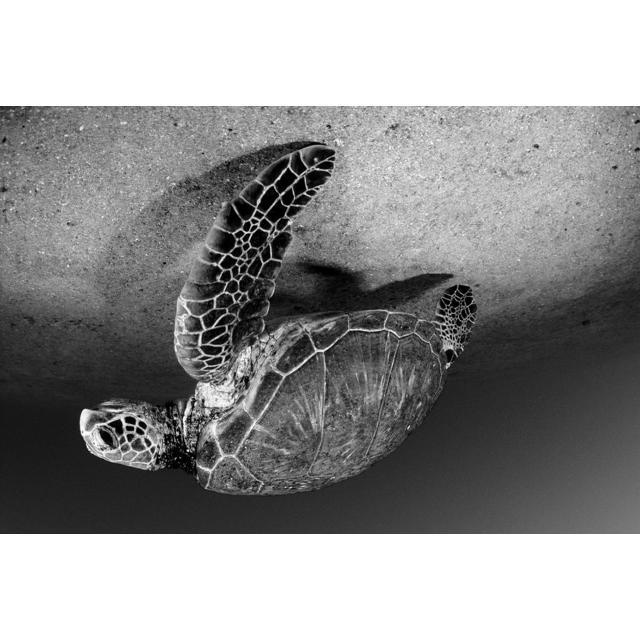turtle: (76, 140, 479, 497)
